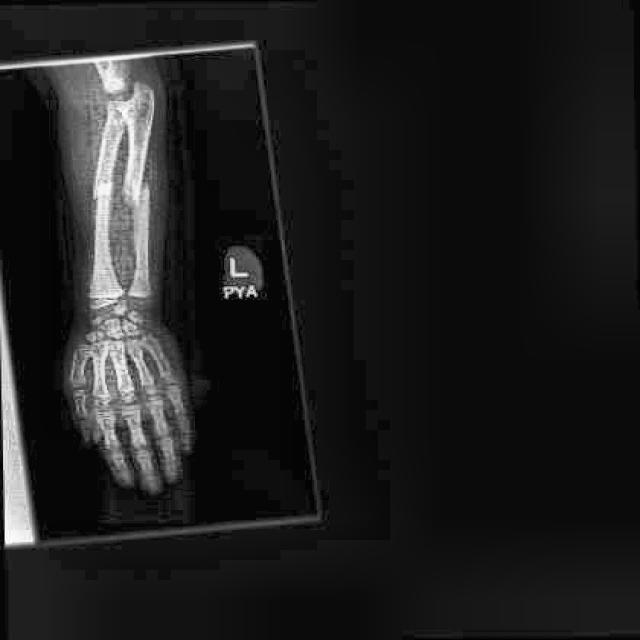forearm fracture: (75, 158, 160, 235)
